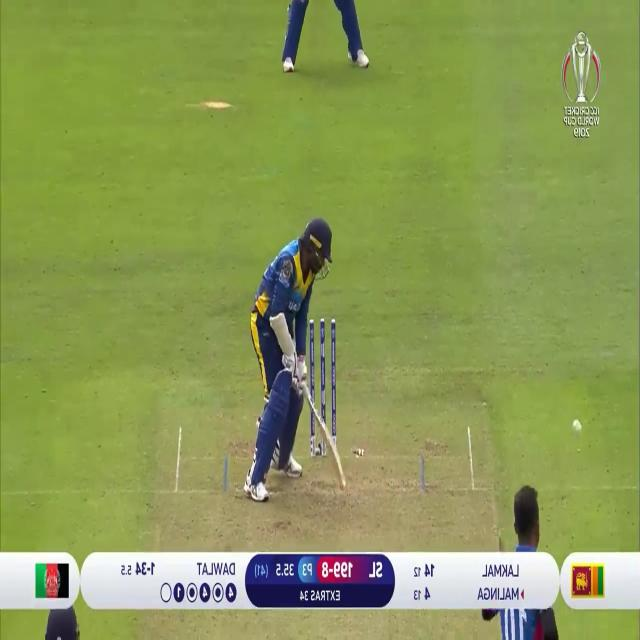ball: (570, 418, 584, 440)
